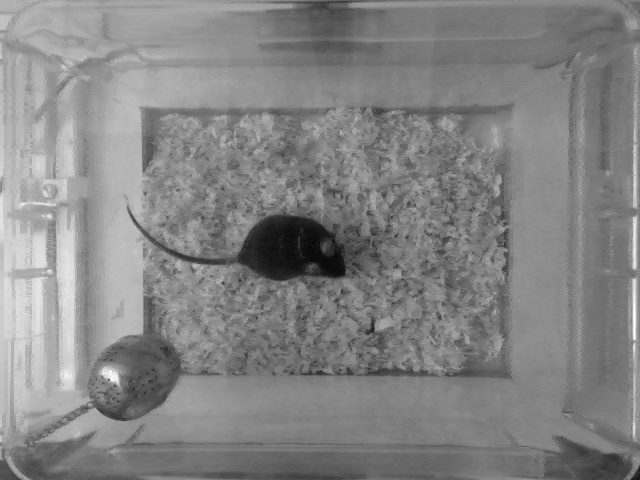mice: (114, 191, 349, 280)
